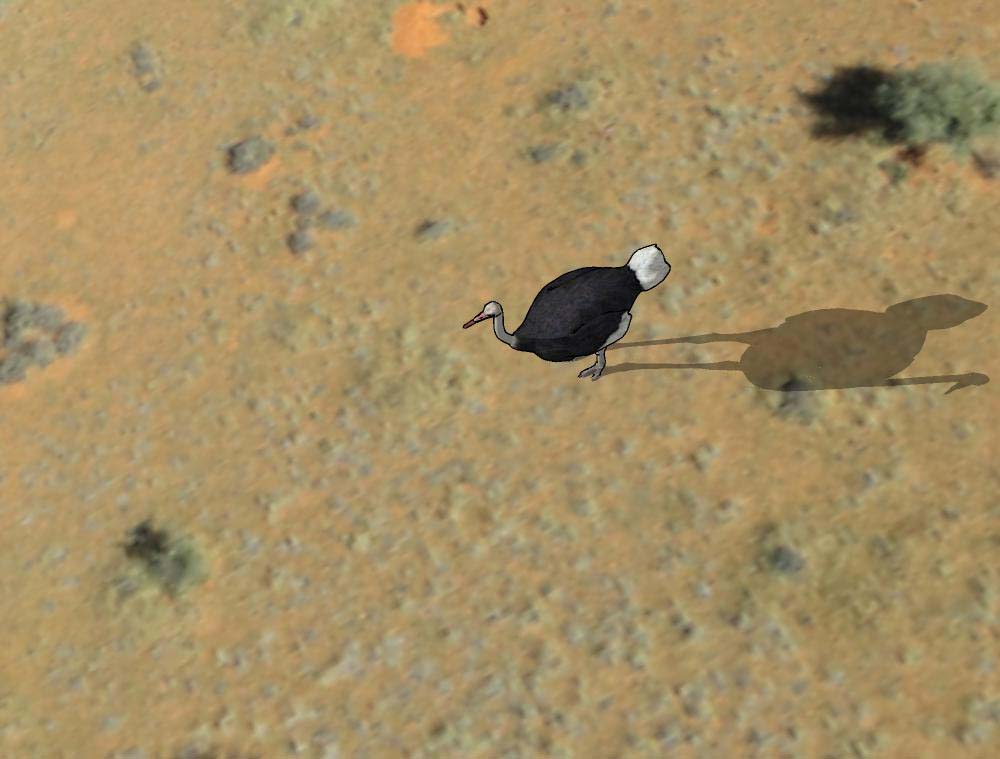ostrich: (460, 232, 680, 401)
